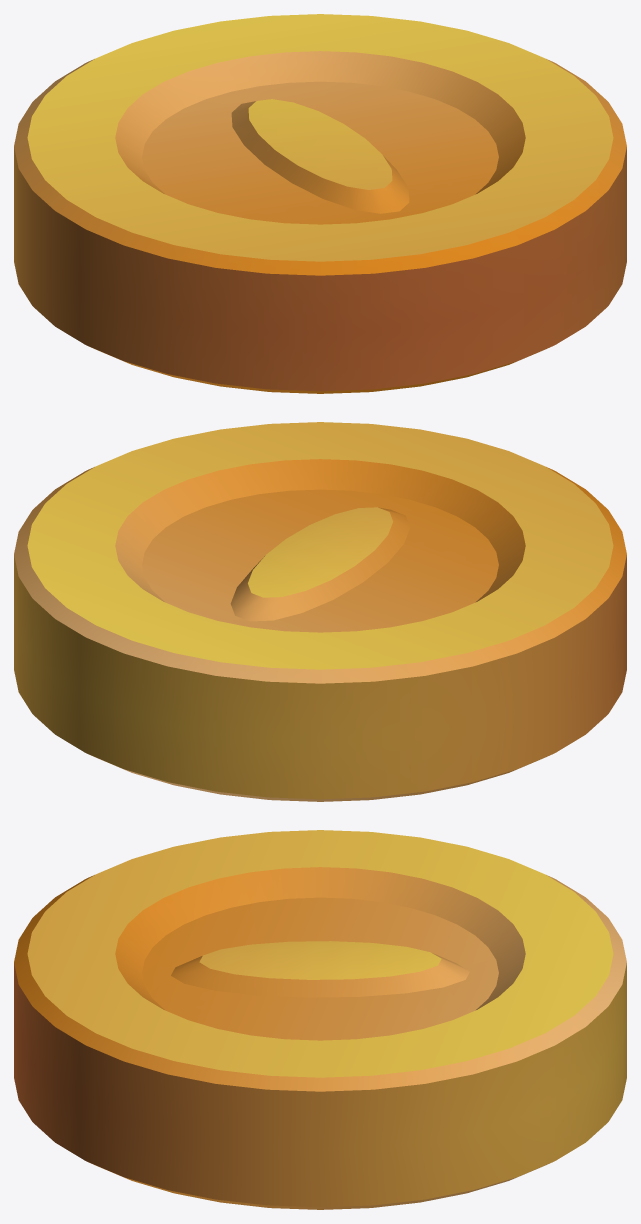
Rendered from Coin.FBX.
The picture shows the model from 3 angles, top to bottom: view 1: azimuth 30°, elevation 25°; view 2: azimuth 150°, elevation 25°; view 3: azimuth 270°, elevation 25°; orthographic projection.
Visible parts, largest first — view 1: Coin; view 2: Coin; view 3: Coin.
Boxes of the visible parts, left/top/right/bottom form: Coin: left=14, top=14, right=626, bottom=393; Coin: left=14, top=422, right=626, bottom=801; Coin: left=14, top=830, right=626, bottom=1209.
Bounding box in the file's own units: 70.65 × 16.82 × 70.65.
